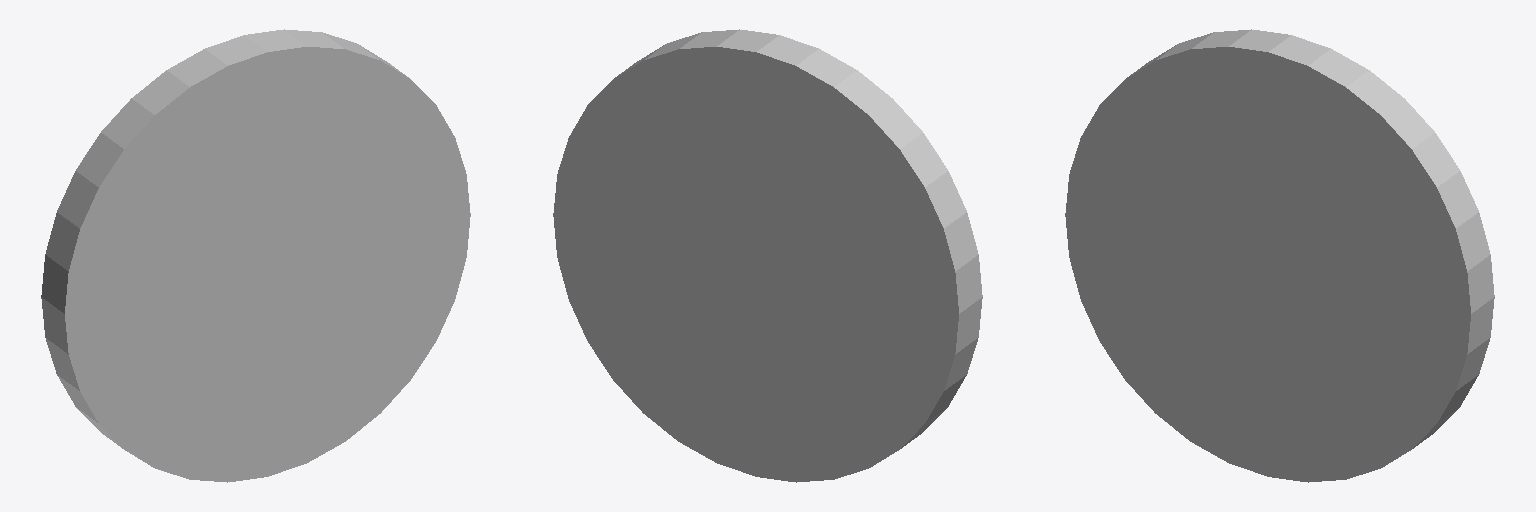
File: coin.obj
The picture shows the model from 3 angles: view 1: azimuth 30°, elevation 25°; view 2: azimuth 150°, elevation 25°; view 3: azimuth 330°, elevation 25°; orthographic projection.
Parts seen in each view (by area): view 1: Circle; view 2: Circle; view 3: Circle.
Part boxes in pixels (left/top/right/bottom): Circle: left=41, top=29, right=470, bottom=482; Circle: left=553, top=29, right=982, bottom=482; Circle: left=1065, top=29, right=1494, bottom=482.
Bounding box in the file's own units: 2 × 2 × 0.2.